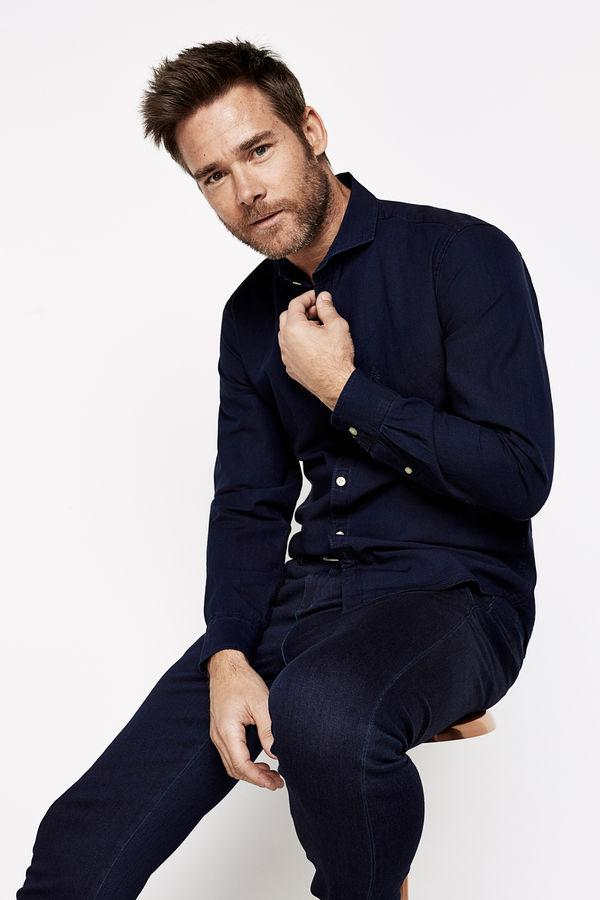teeshirt: (159, 170, 561, 697)
